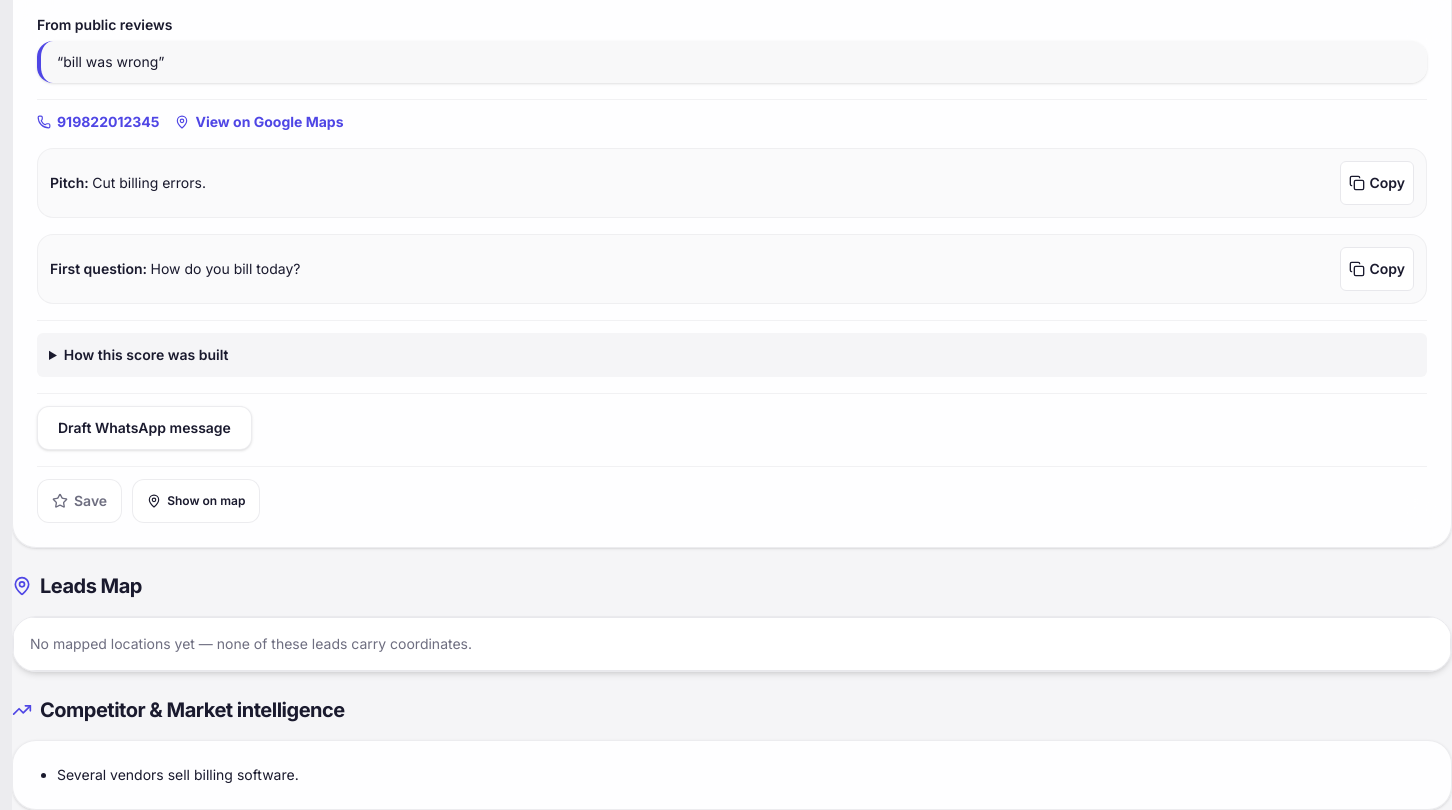
Test case: LeadsResultsView › flags shortlisted leads for the map layer
(page scrolled)
Click the button with aria-label "Add Sharma Restaurant to shortlist" at [80, 501], box [37, 479, 122, 523]
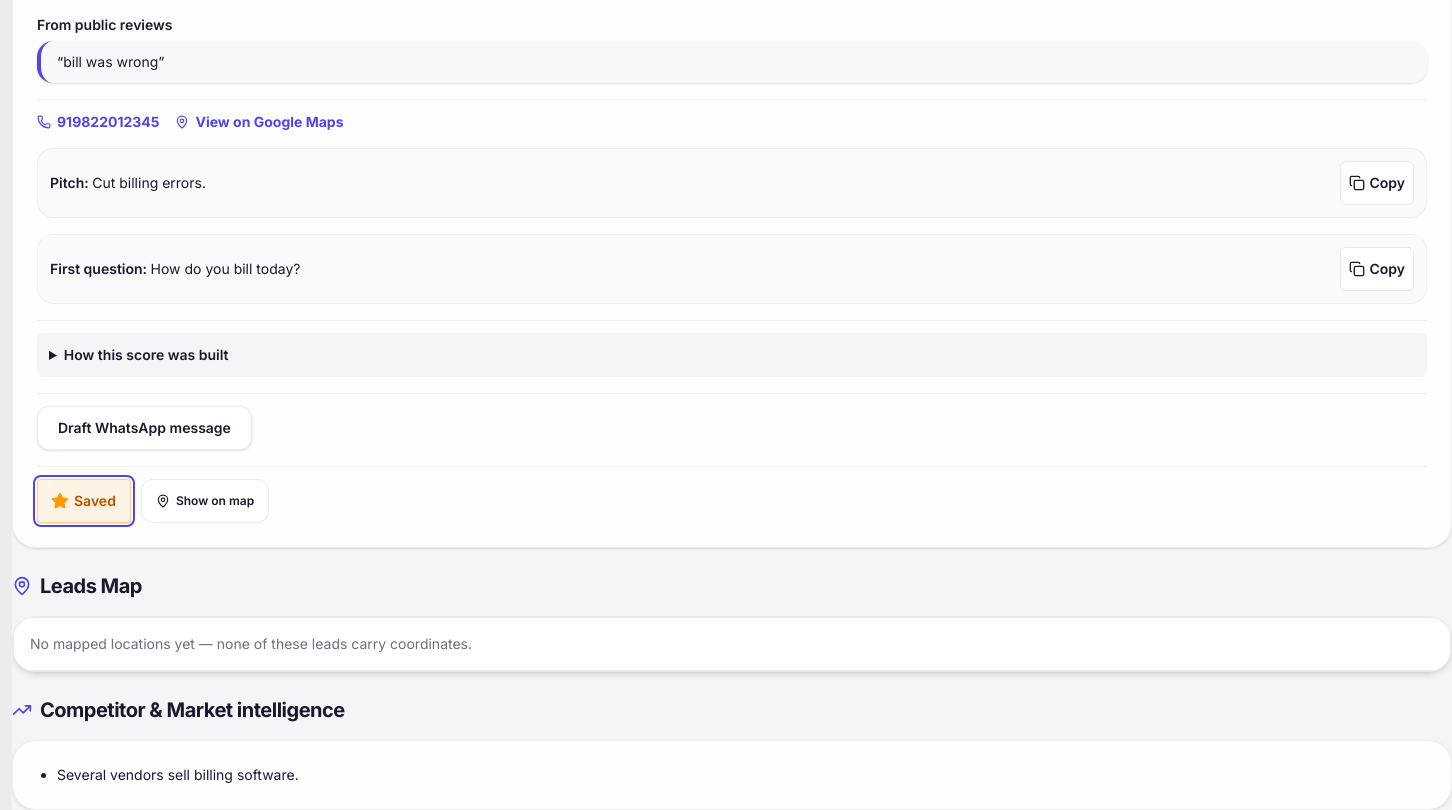
Check: the button with aria-label "Remove Sharma Restaurant from shortlist" is shown, box [37, 479, 131, 523]
